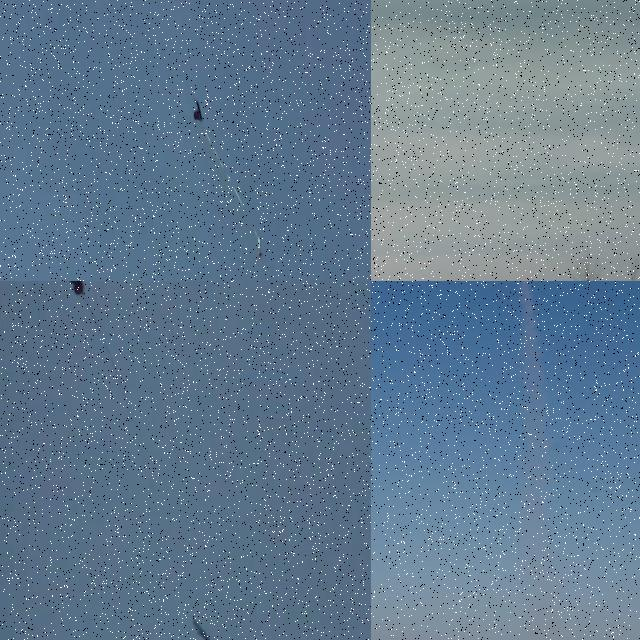Rocket: (194, 620, 226, 640), (257, 237, 263, 260)
